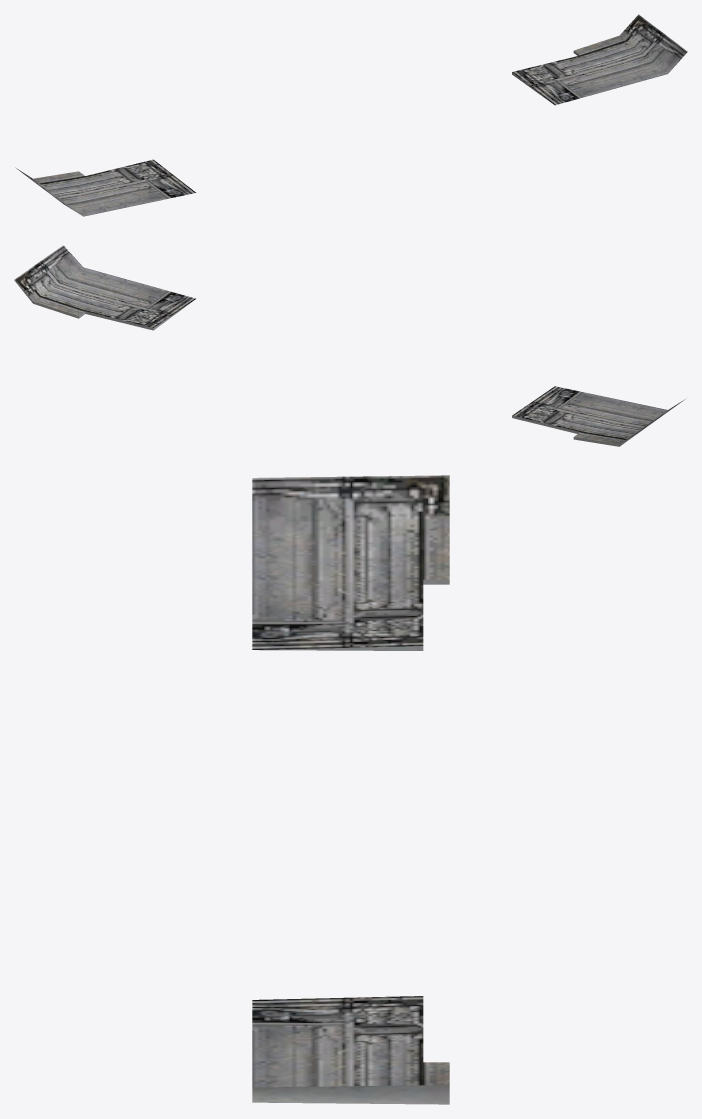
File: lambda_geardoor_a_l2.fbx
3 views of the same model, one above another, from view 1: azimuth 30°, elevation 25°; view 2: azimuth 150°, elevation 25°; view 3: azimuth 270°, elevation 25° (orthographic). The views are drawn at different scales.
Visible parts, largest first — view 1: mesh_node; view 2: mesh_node; view 3: mesh_node.
Part boxes in pixels (x1,y1,x2,y2): mesh_node: (15, 14, 687, 216); mesh_node: (14, 245, 685, 446); mesh_node: (252, 475, 449, 1104).
Size of the model in its own units: 13.68 by 0.4802 by 1.88.
